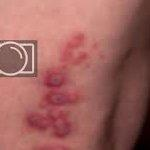Ants: (56, 33, 89, 69), (47, 104, 73, 138), (25, 110, 52, 130), (45, 92, 78, 105), (44, 69, 63, 88)
